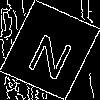N: (25, 25, 80, 82)
